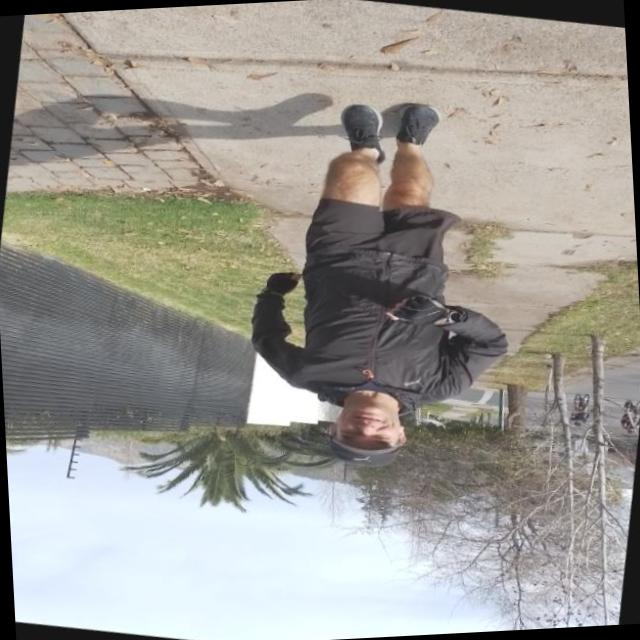person: (187, 46, 594, 507)
